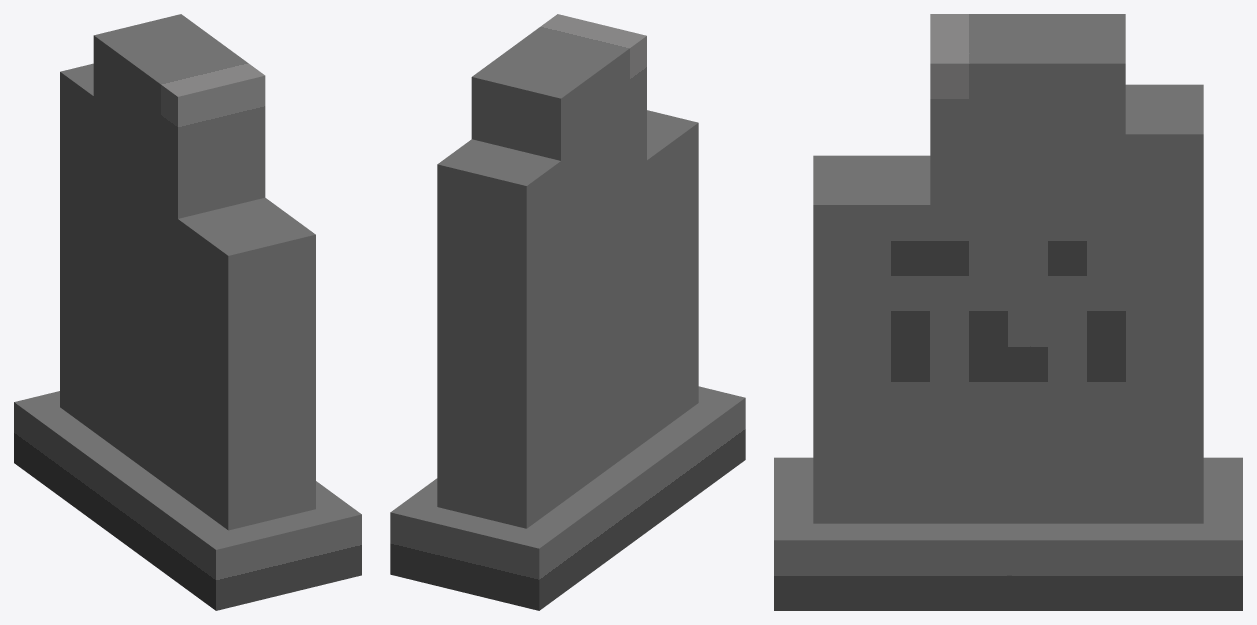
The model's file is decoration_1x1_headstone_b.gltf.
3 renders of one model, left to right at view 1: azimuth 30°, elevation 25°; view 2: azimuth 150°, elevation 25°; view 3: azimuth 270°, elevation 25°, orthographic. The views are drawn at different scales.
Visible parts, largest first — view 1: tombstone05-Local; view 2: tombstone05-Local; view 3: tombstone05-Local.
Boxes of the visible parts, bbox=[...] form: tombstone05-Local: bbox=[14, 14, 361, 610]; tombstone05-Local: bbox=[390, 14, 745, 610]; tombstone05-Local: bbox=[774, 14, 1242, 610].
Bounding box in the file's own units: 5 × 15 × 12.
1 material, 1 textured.
